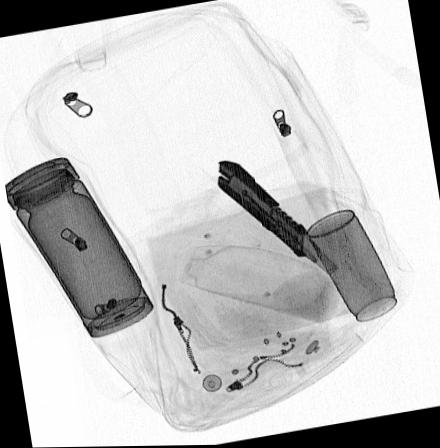Knife: (217, 159, 340, 275)
